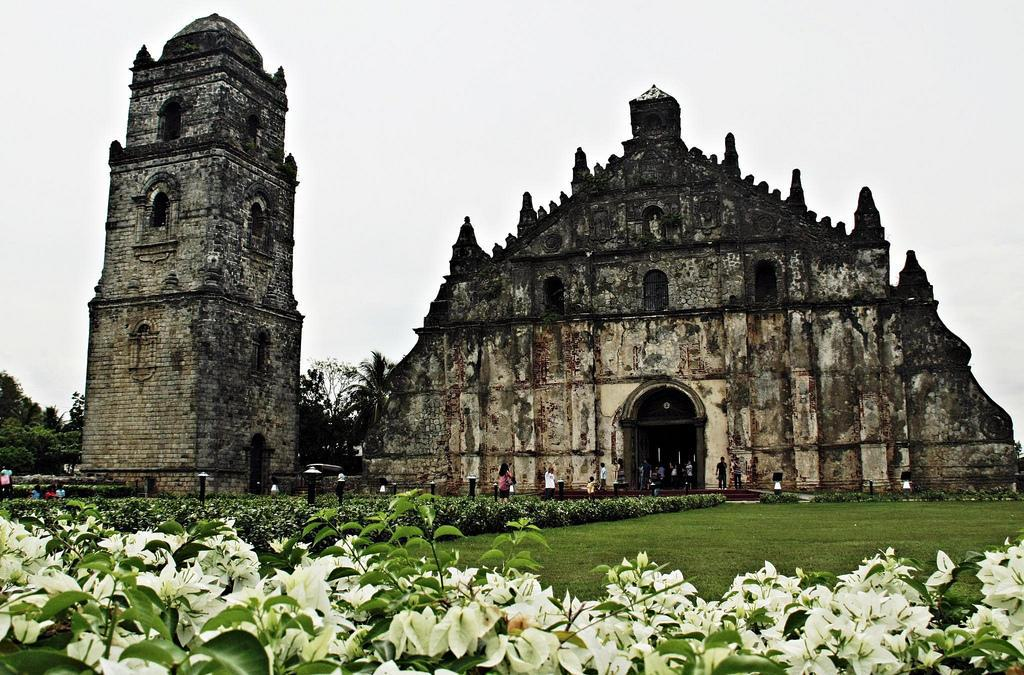Environmental Damage: (536, 299, 582, 329), (275, 152, 302, 185), (659, 208, 687, 235)
Paoay Church: (73, 7, 1019, 498)
